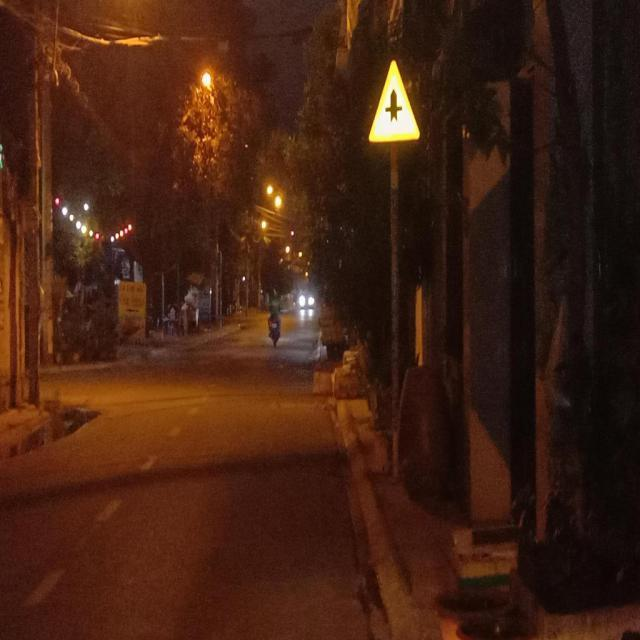207-giao-nhau-voi-duong-khong-uu-tien: (367, 58, 424, 146)
